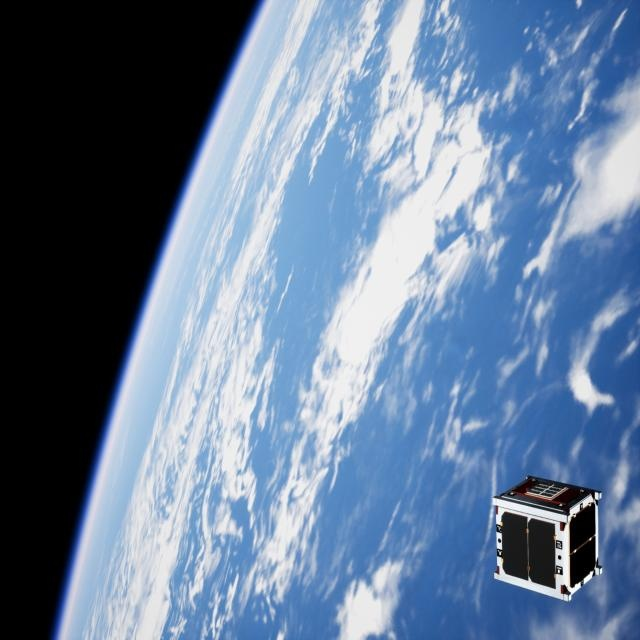medium_debris: (492, 473, 603, 604)
